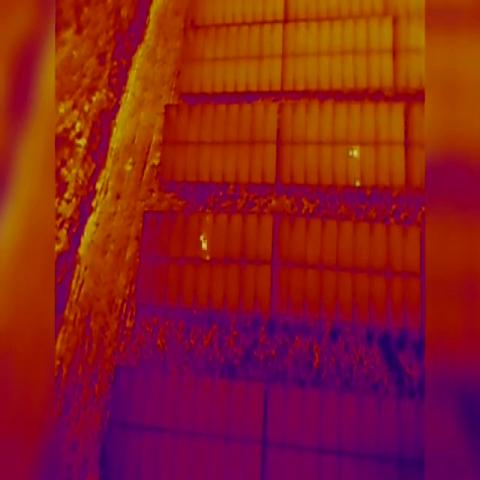fault: (352, 146, 358, 158), (347, 147, 353, 158), (354, 177, 360, 188), (199, 232, 205, 243), (205, 252, 211, 263), (202, 240, 207, 250)
